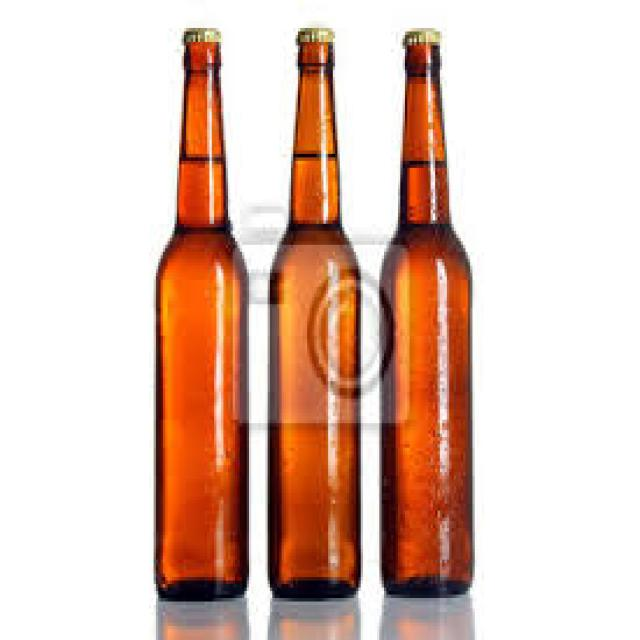glass: (377, 39, 472, 591), (266, 39, 359, 598), (154, 42, 245, 595)
metal: (400, 21, 435, 45), (293, 21, 333, 42), (182, 21, 217, 38)
